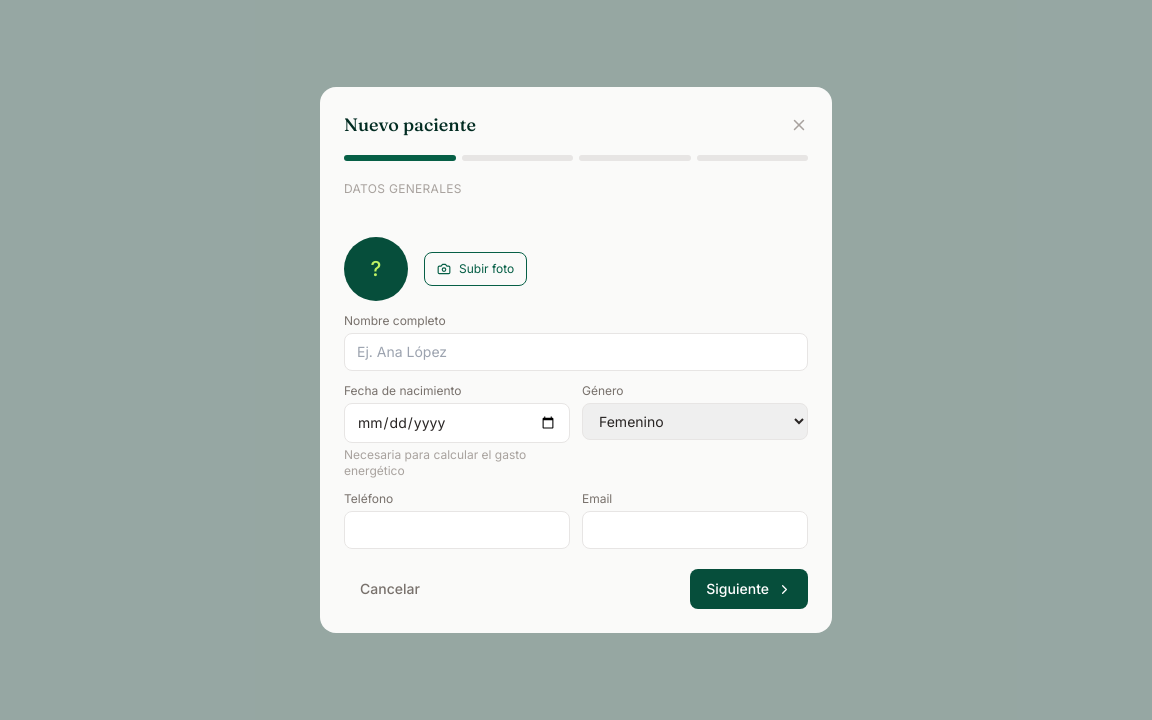
Test case: condiciones médicas escritas por el nutriólogo › agrega una condición que no está en el catálogo
Click the button "Siguiente": (749, 589) [690, 569, 808, 609]
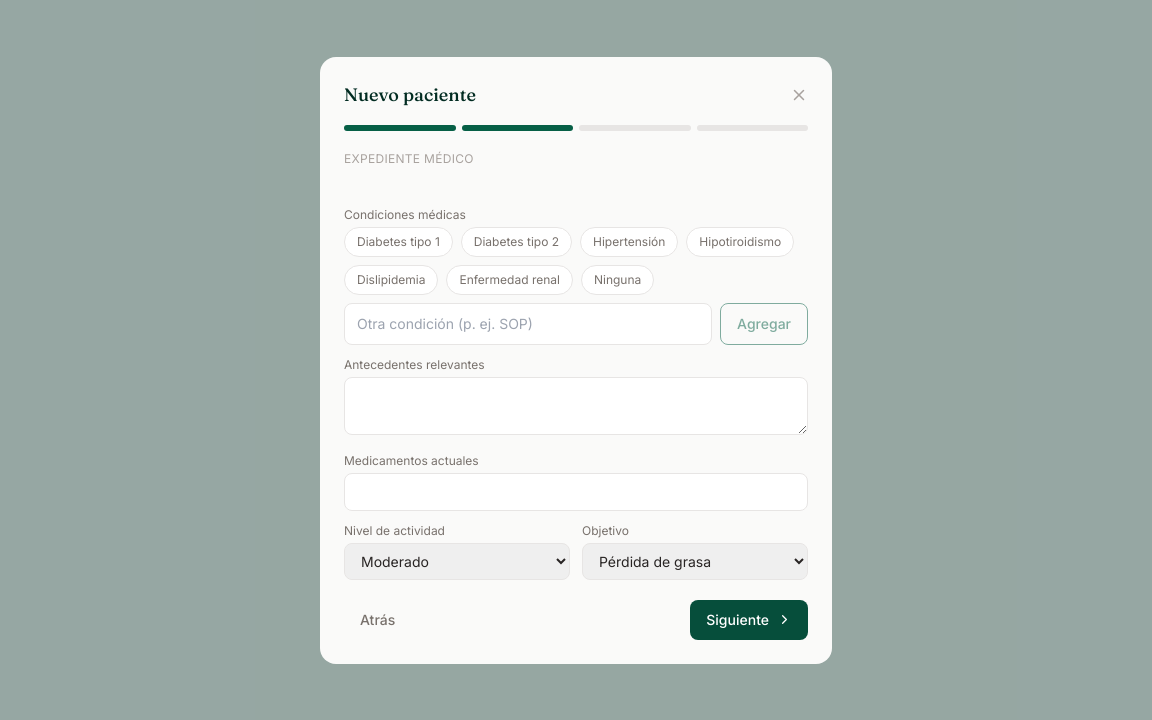
In the field with placeholder "Otra condición (p. ej. SOP)": (528, 324) [344, 302, 712, 344], type "Síndrome de ovario poliquístico"
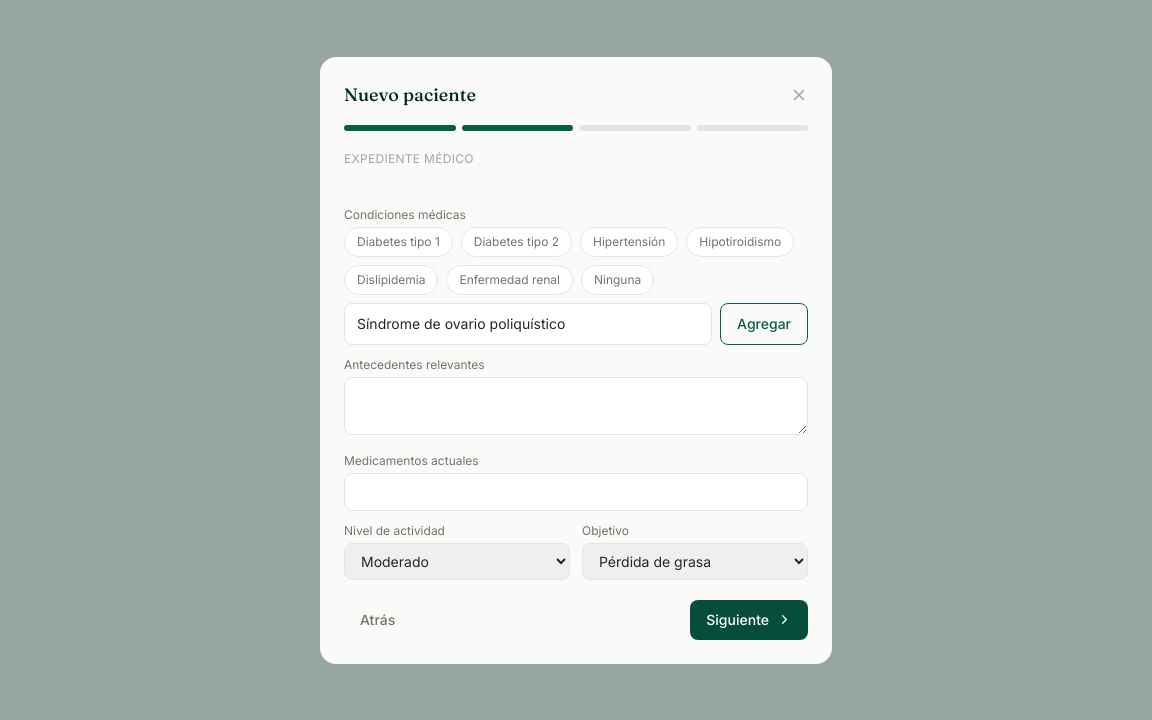
Click the button "Agregar": (764, 324) [720, 302, 808, 344]
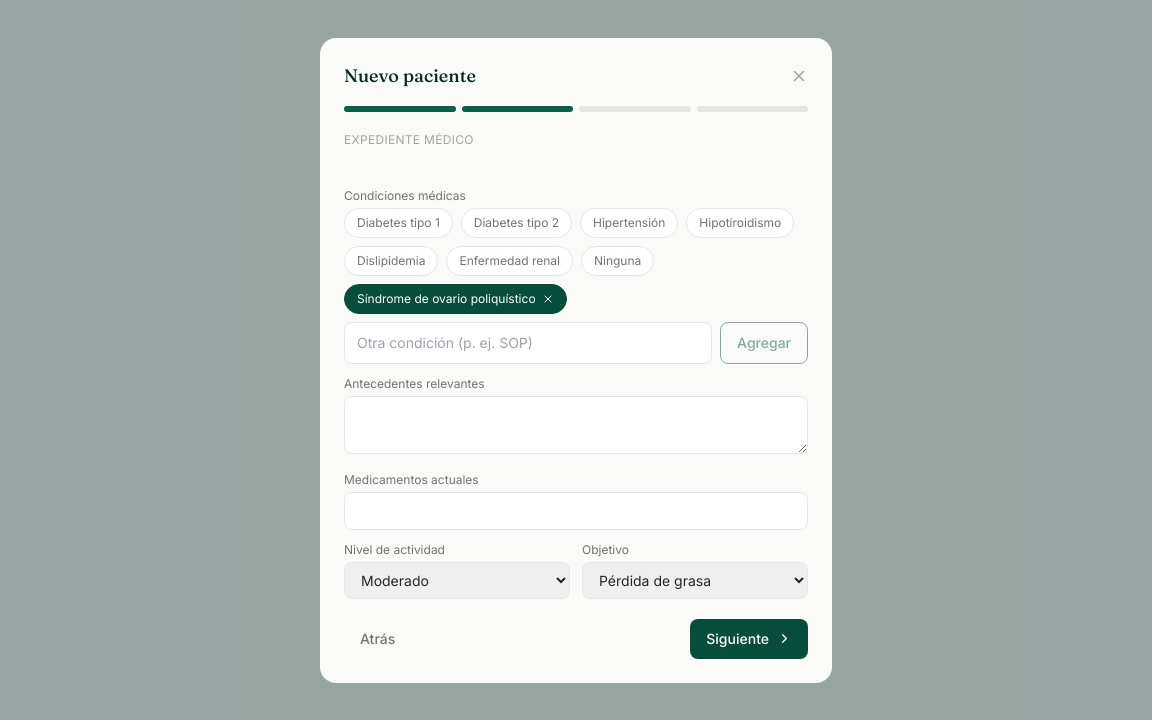
Now the button with aria-label "Quitar Síndrome de ovario poliquístico" is shown, box [344, 284, 567, 314]
